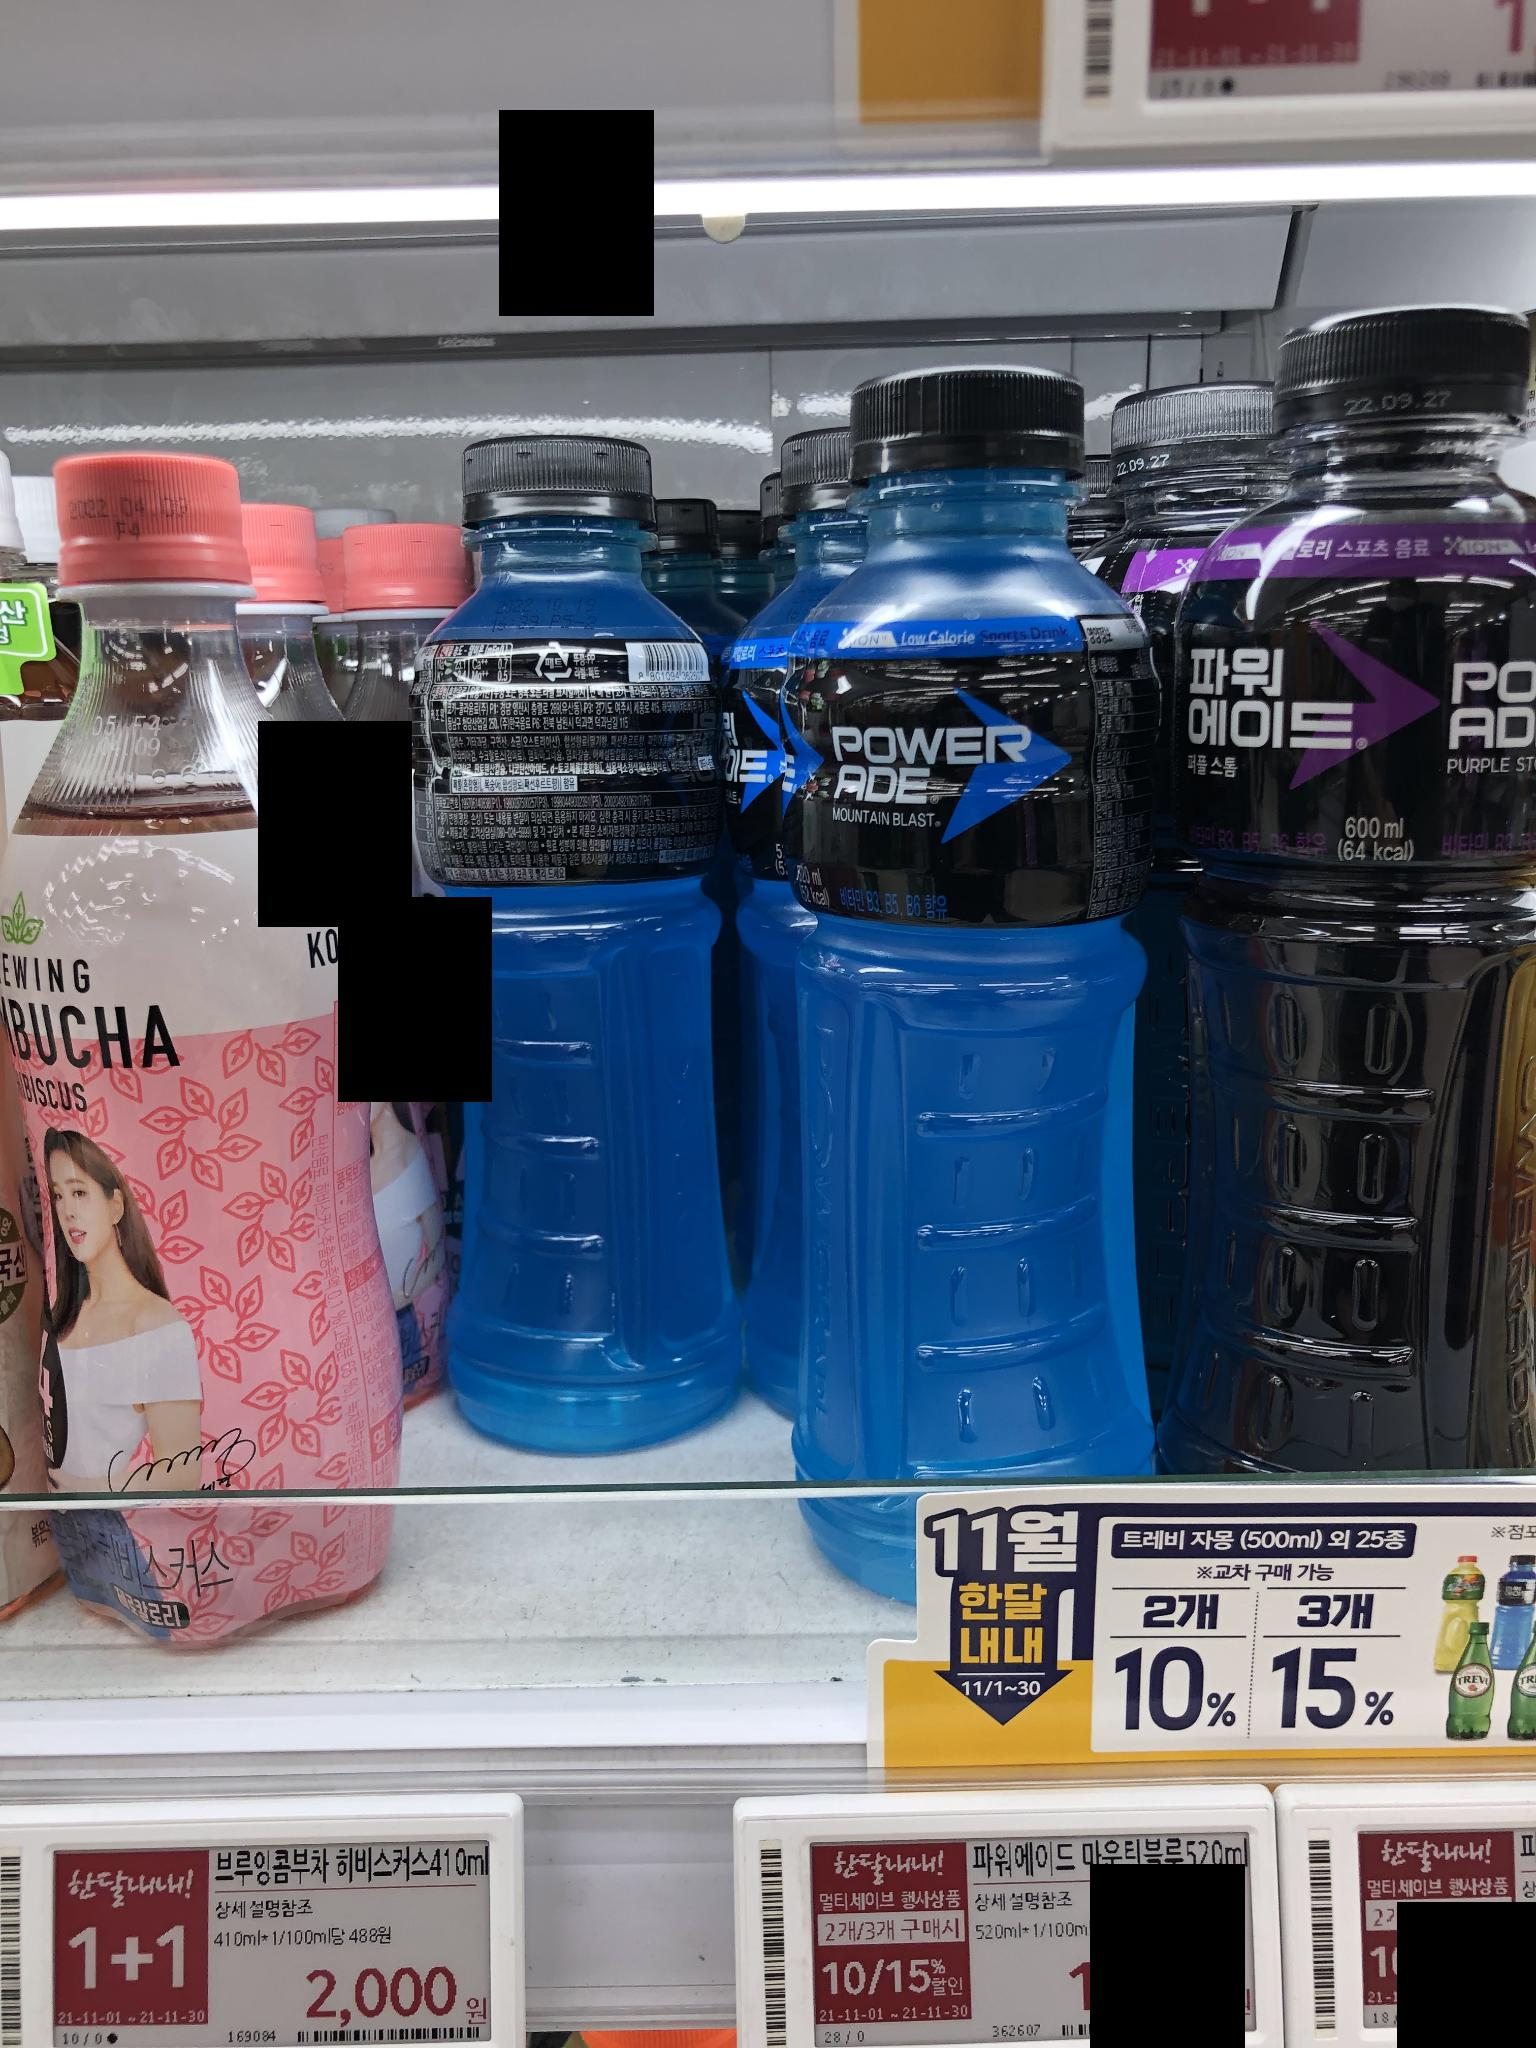powerade_mountainblast: (728, 340, 1249, 1674), (397, 405, 758, 1466)
